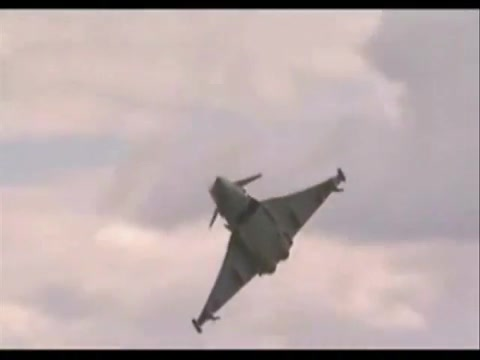aeroplane: (193, 164, 348, 336)
